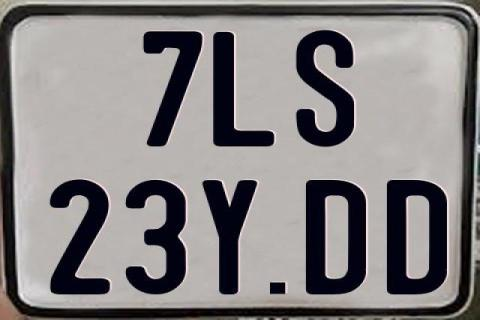0: (123, 178, 189, 294), (142, 29, 206, 145), (47, 180, 107, 300)
D: (303, 178, 368, 294), (384, 179, 448, 293)
L: (213, 31, 280, 151)
S: (296, 27, 356, 149)
Y: (200, 180, 255, 295)
